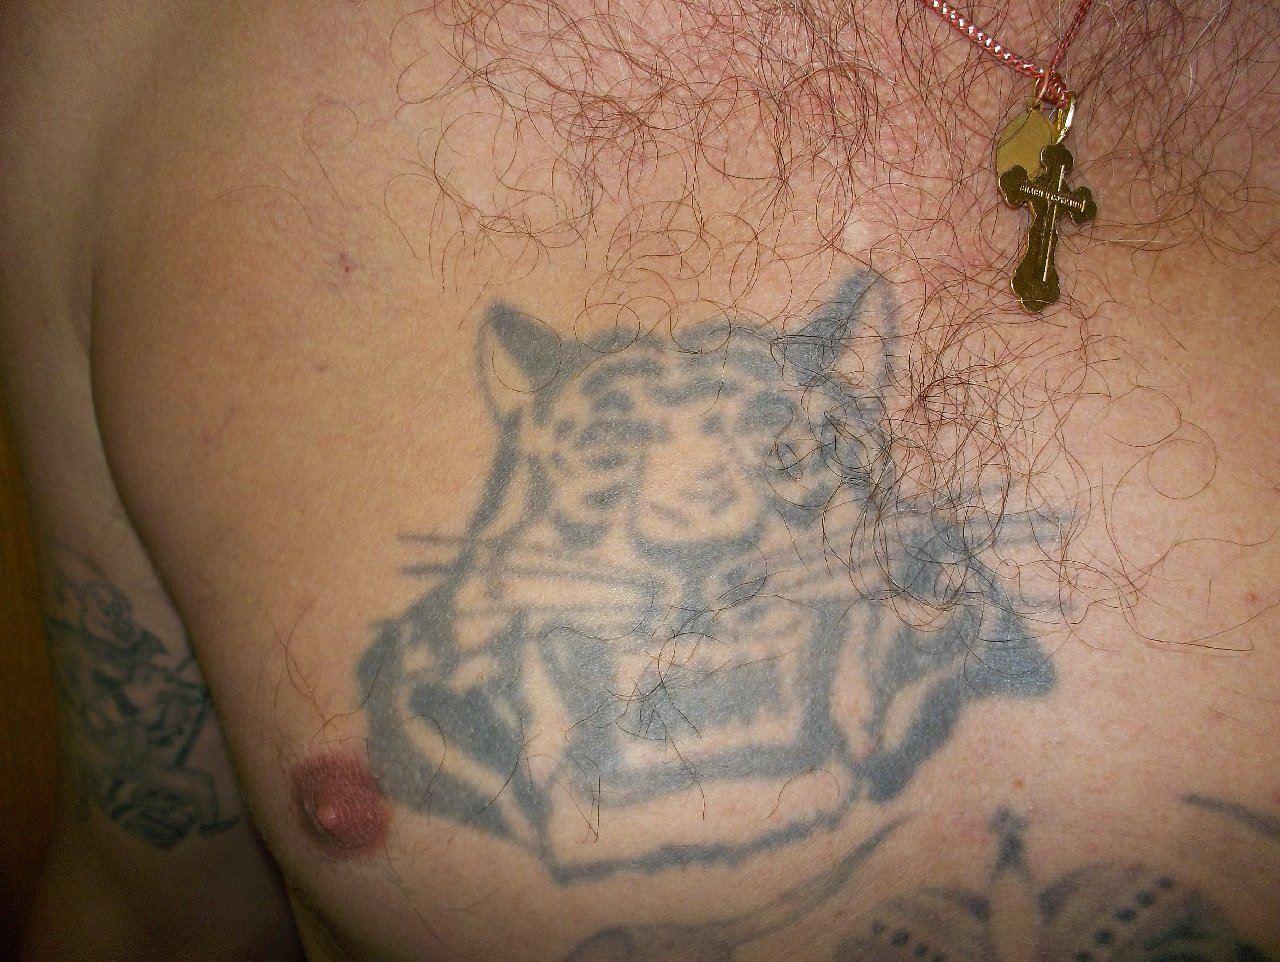tatu5_tigr: (280, 266, 1097, 869)
